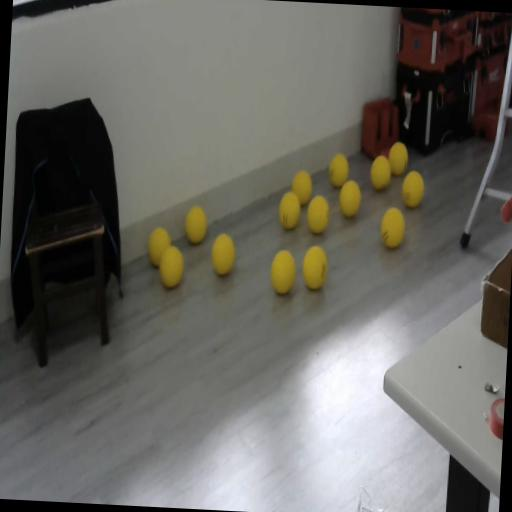FUEL: (269, 248, 297, 296), (300, 244, 328, 290), (210, 232, 237, 278), (378, 206, 406, 250), (146, 225, 172, 268), (306, 193, 331, 235), (183, 204, 208, 245), (338, 179, 362, 219), (278, 190, 301, 230), (400, 170, 424, 208), (369, 153, 392, 192), (290, 170, 312, 208), (388, 141, 410, 176), (328, 153, 349, 188)
